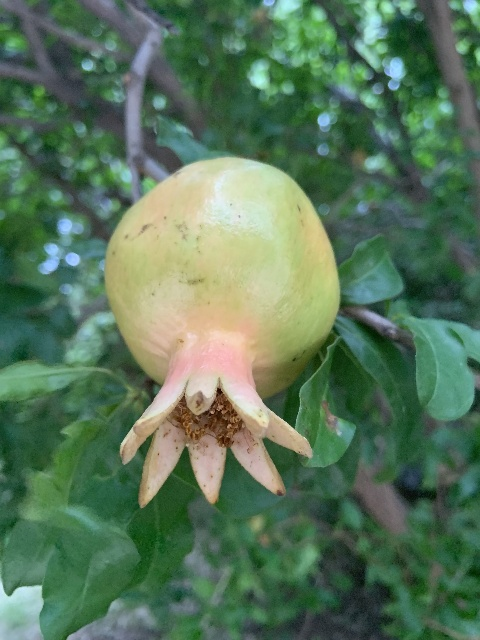mid-growth: (103, 157, 340, 508)
